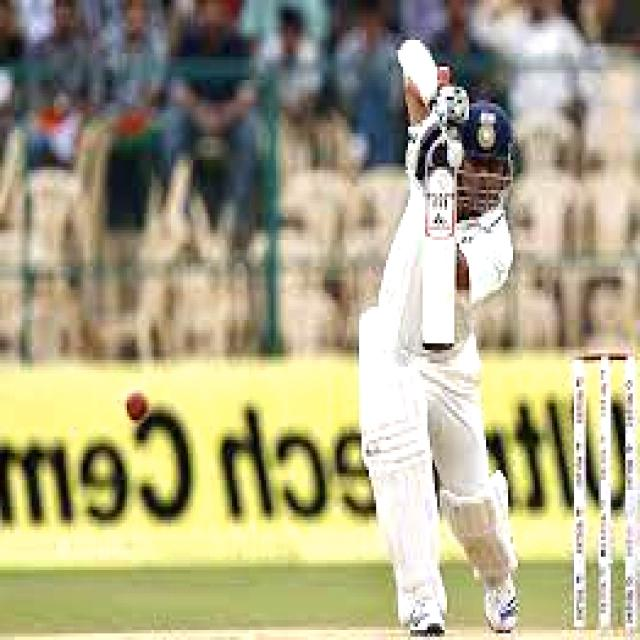bat: (419, 165, 464, 352)
